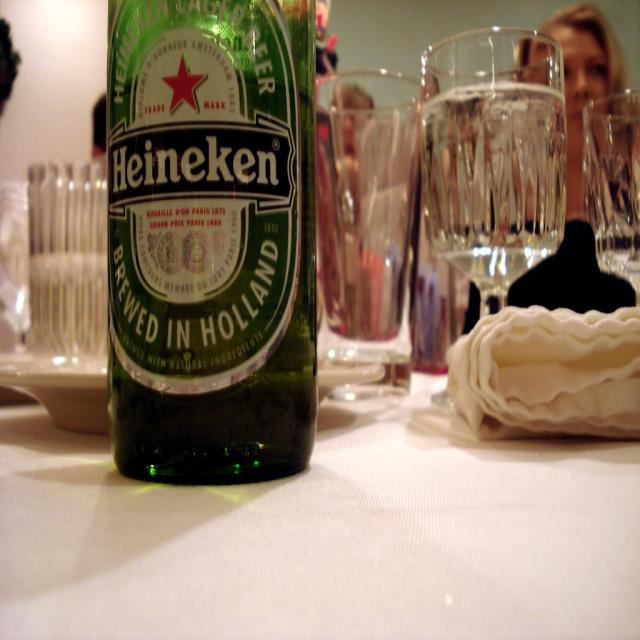heineken: (107, 2, 303, 397)
